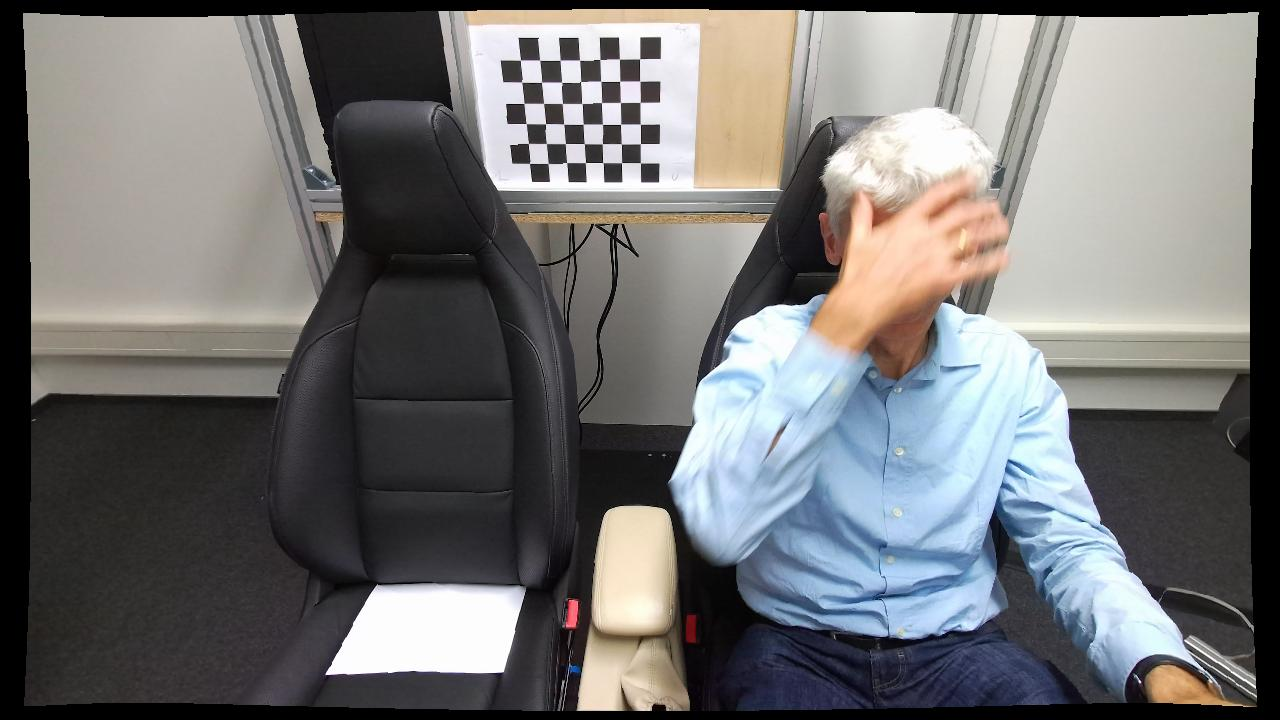Distracted: (664, 98, 1159, 710)
